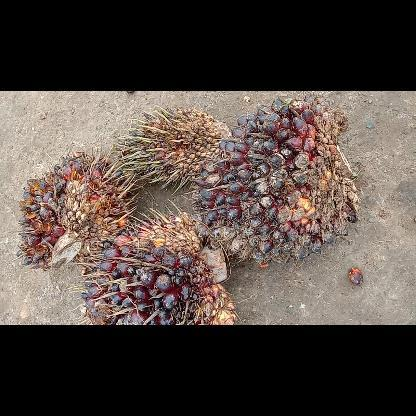Kurang masak: (197, 90, 357, 264), (85, 212, 236, 324)
TBS abnormal: (121, 109, 232, 187)
TBS masak: (13, 154, 130, 270)
